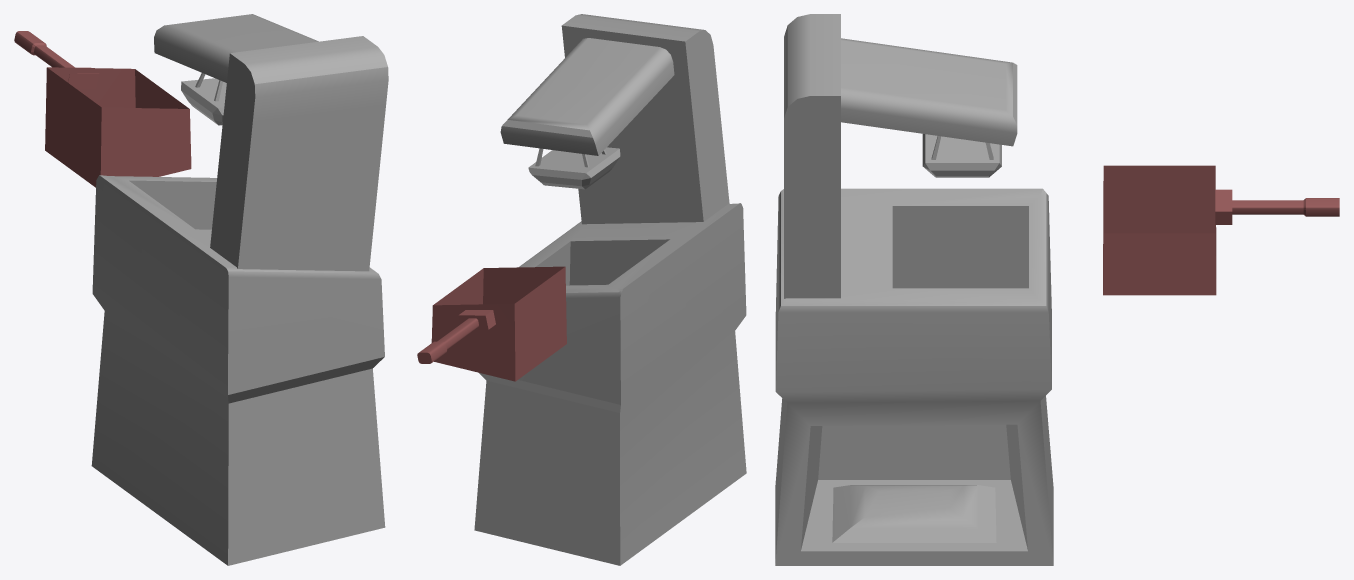
File: mesh_frystation_tri 1.fbx
3 views of the same model, side by side, from view 1: azimuth 30°, elevation 25°; view 2: azimuth 150°, elevation 25°; view 3: azimuth 270°, elevation 25° (orthographic). The views are drawn at different scales.
Parts seen in each view (by area): view 1: mesh_frystation, mesh_frybasket; view 2: mesh_frystation, mesh_frybasket; view 3: mesh_frystation, mesh_frybasket.
Boxes of the visible parts, left/top/right/bottom form: mesh_frystation: left=91, top=14, right=388, bottom=565; mesh_frybasket: left=14, top=31, right=191, bottom=187; mesh_frystation: left=474, top=14, right=746, bottom=565; mesh_frybasket: left=417, top=266, right=566, bottom=381; mesh_frystation: left=775, top=14, right=1053, bottom=565; mesh_frybasket: left=1103, top=165, right=1339, bottom=295.
Size of the model in its own units: 46.37 by 127 by 133.
